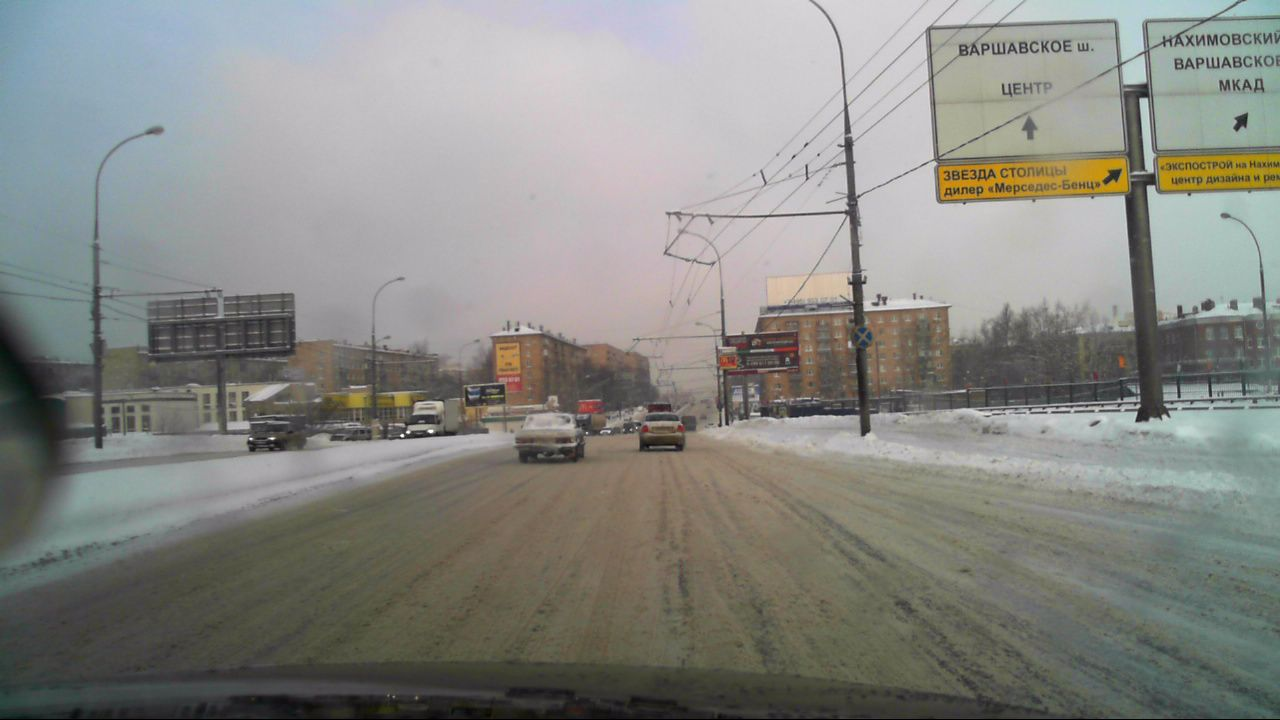No Parking: (853, 326, 875, 351)
